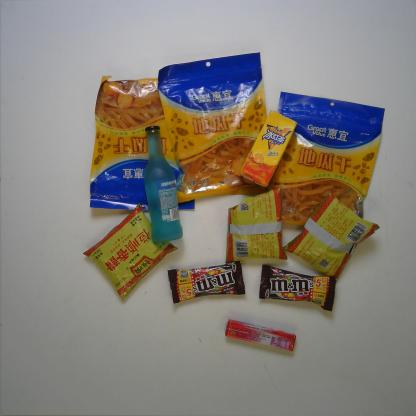Alcohol: (136, 122, 189, 245)
Candy: (223, 318, 296, 355)
Chocolate: (258, 263, 337, 312), (167, 260, 245, 304)
Dried Fruit: (149, 50, 273, 207), (264, 86, 388, 237), (88, 75, 197, 213)
Drink: (240, 108, 298, 190)
Seasoner: (79, 201, 176, 301), (276, 193, 381, 284), (221, 188, 289, 267)
